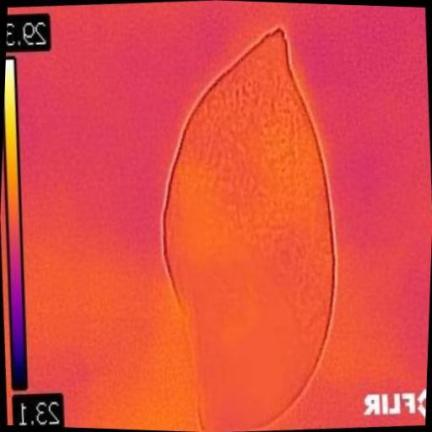mango: (165, 28, 334, 429)
